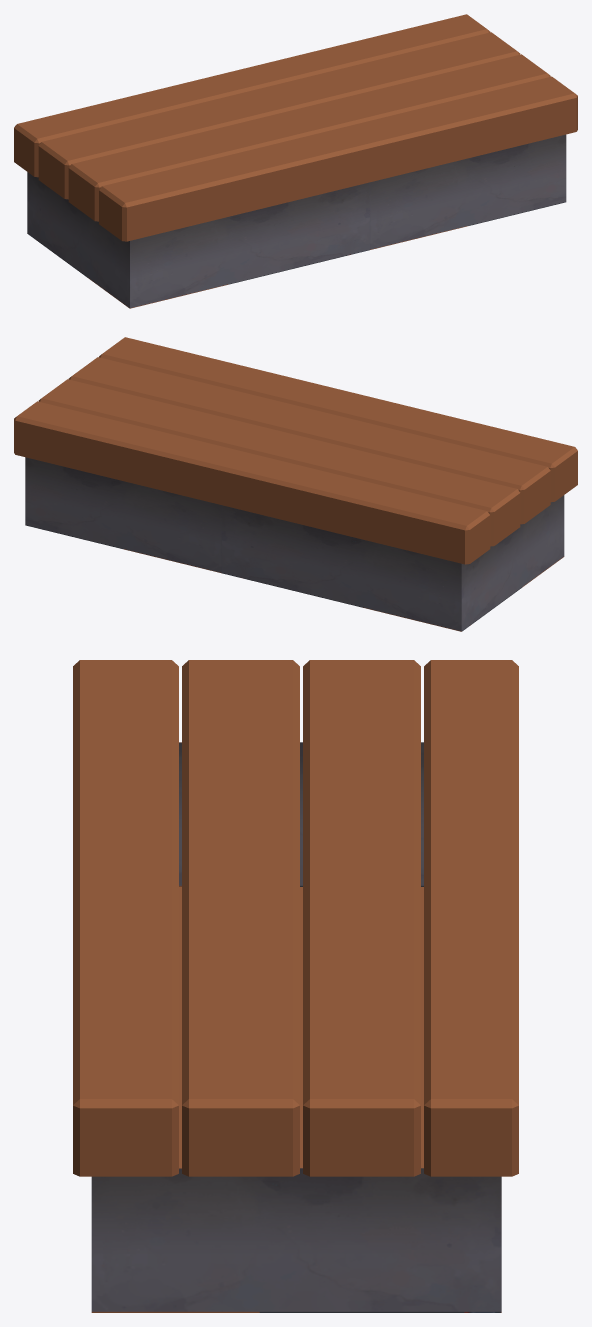
The model's file is kaorou_taizi02.fbx.
3 renders of one model, top to bottom at view 1: azimuth 30°, elevation 25°; view 2: azimuth 150°, elevation 25°; view 3: azimuth 270°, elevation 25°, orthographic. The views are drawn at different scales.
Visible parts, largest first — view 1: kaorou_taizi02; view 2: kaorou_taizi02; view 3: kaorou_taizi02.
Boxes of the visible parts, bbox=[...] form: kaorou_taizi02: bbox=[14, 14, 577, 308]; kaorou_taizi02: bbox=[14, 337, 577, 631]; kaorou_taizi02: bbox=[73, 660, 518, 1312].
Bounding box in the file's own units: 909 × 209 × 385.
